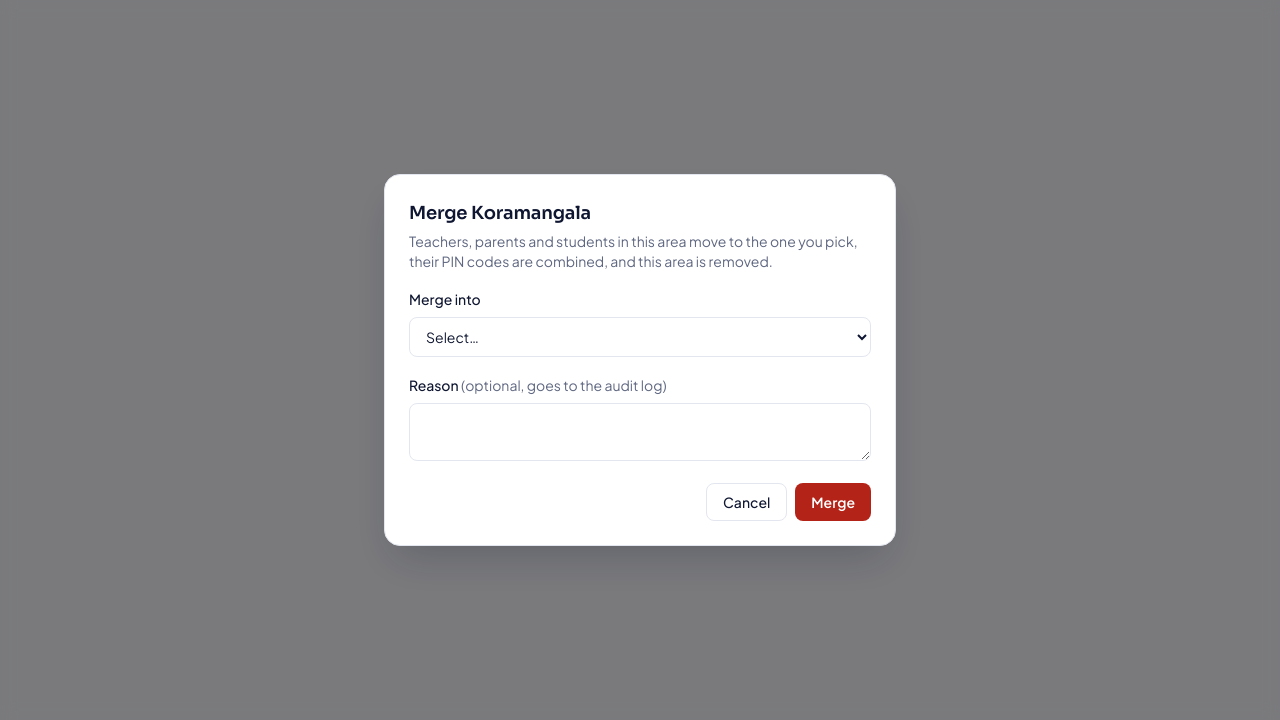
it: MergeDialog › shows other failures as an alert
Select "HSR Layout" in the dropdown labelled "Merge into" at (640, 337), box x1=409 y1=317 x2=871 y2=357
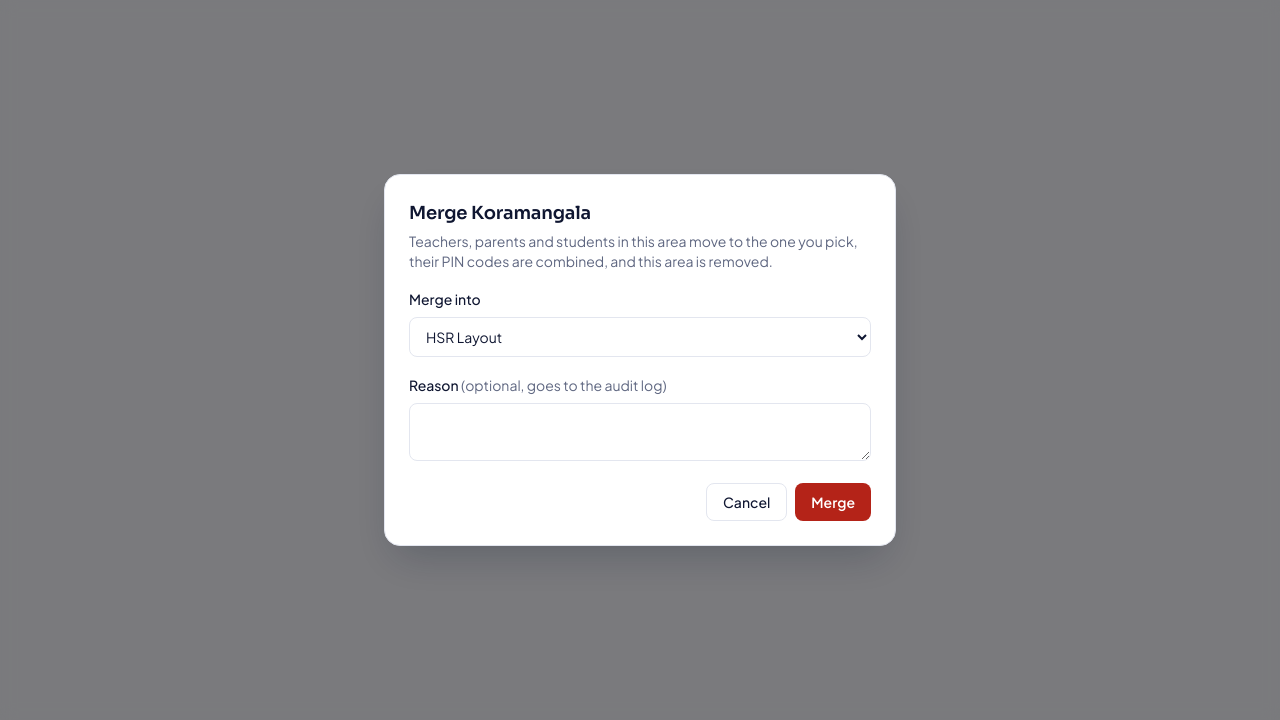
Click the button "Merge" at (833, 502), box x1=795 y1=483 x2=871 y2=521
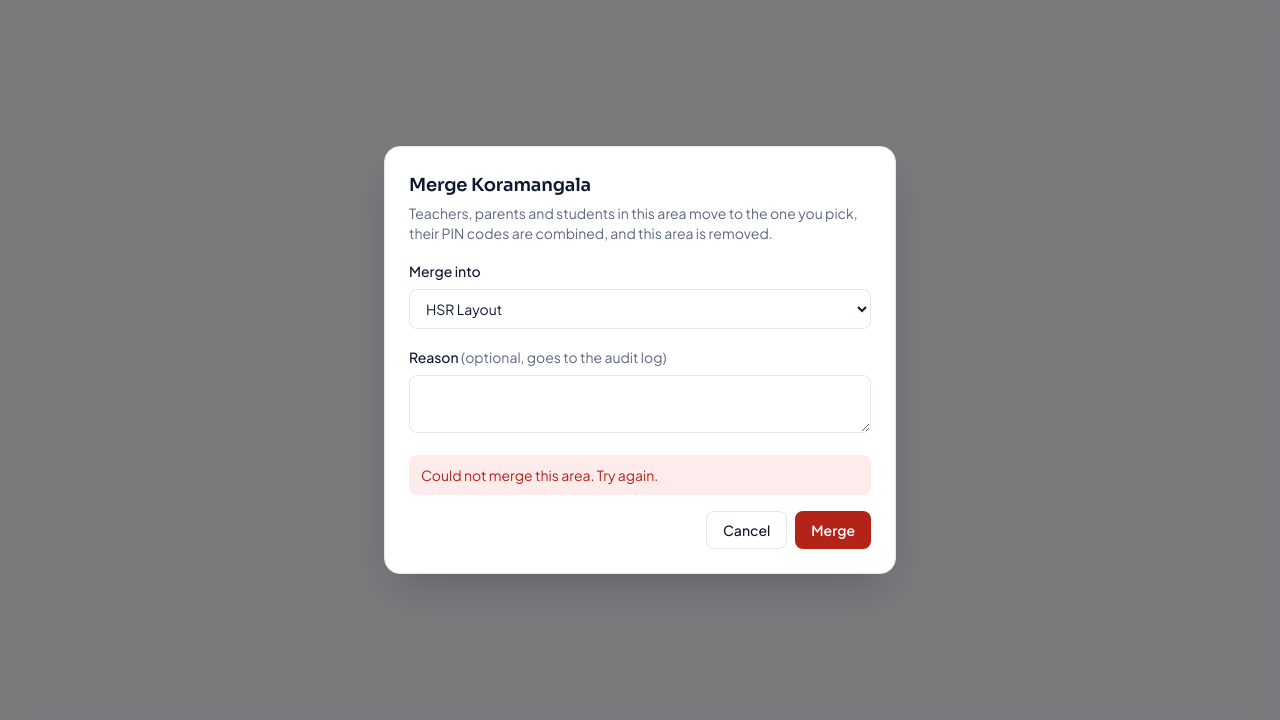
Expected: the message reads "Could not merge this area. Try again.", x1=421 y1=466 x2=658 y2=484
